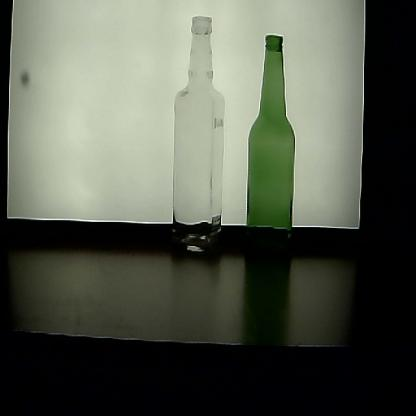Can: (164, 14, 230, 265), (244, 30, 297, 274)
